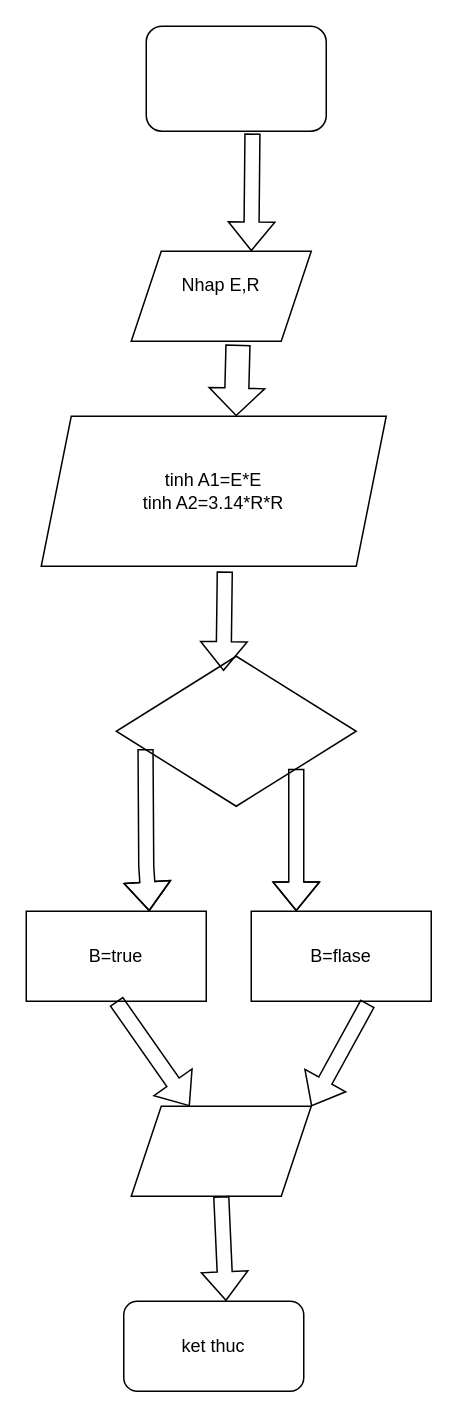
Image size: 458x1418. Some labels were removed from this diagram. The shapes that lost their labels are listed below. From the top down, each one's box as (x1, y1, x2, y2) in pixels, then its label:
(145, 25, 326, 131): ban dau
(115, 655, 356, 806): A1>A2?
(130, 1105, 311, 1196): hen thi B
